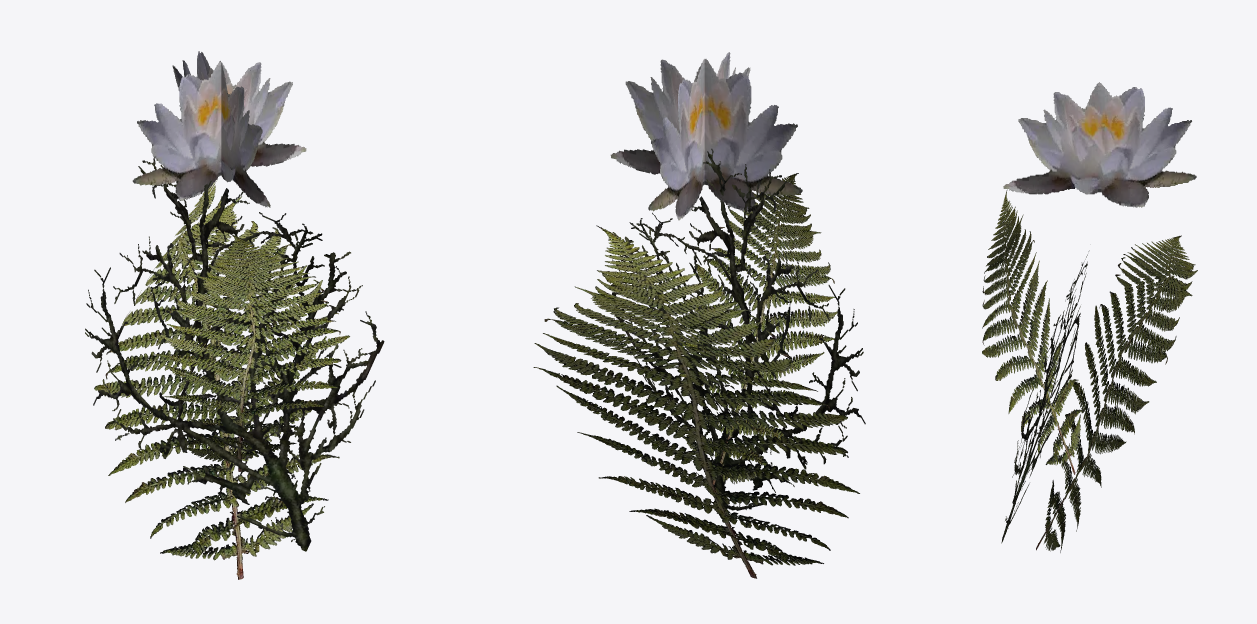
The model's file is KM_VOB_SINGLEFLOWER_02.glb.
The picture shows the model from 3 angles, left to right: view 1: azimuth 30°, elevation 25°; view 2: azimuth 150°, elevation 25°; view 3: azimuth 270°, elevation 25°; orthographic projection. The views are drawn at different scales.
Parts seen in each view (by area): view 1: Mesh; view 2: Mesh; view 3: Mesh.
Boxes of the visible parts, x1=… form: Mesh: x1=85, y1=51, x2=384, y2=579; Mesh: x1=533, y1=52, x2=865, y2=578; Mesh: x1=982, y1=82, x2=1197, y2=552.
Bounding box in the file's own units: 0.2306 × 0.2929 × 0.1419.
3 materials, 3 textured.
